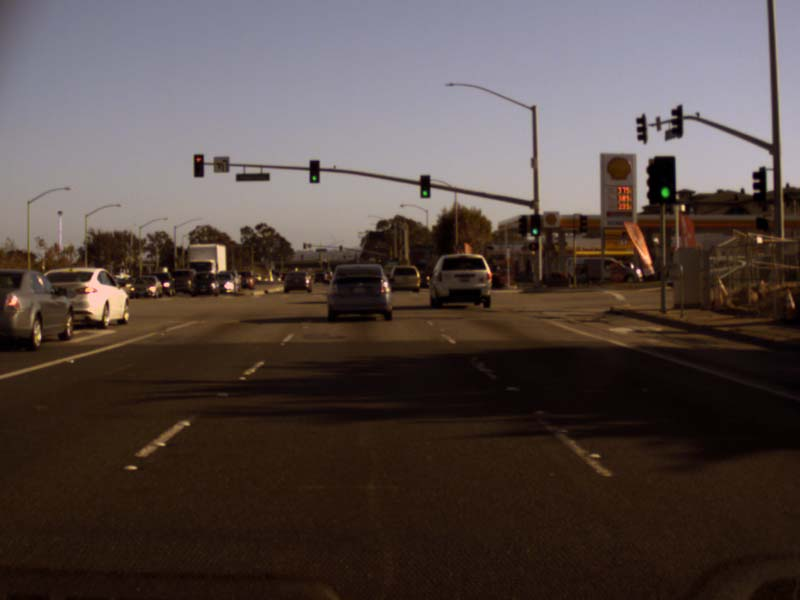Green: (655, 157, 675, 201), (420, 175, 429, 197), (530, 215, 539, 235), (310, 160, 318, 182)
Red: (194, 154, 203, 176)
